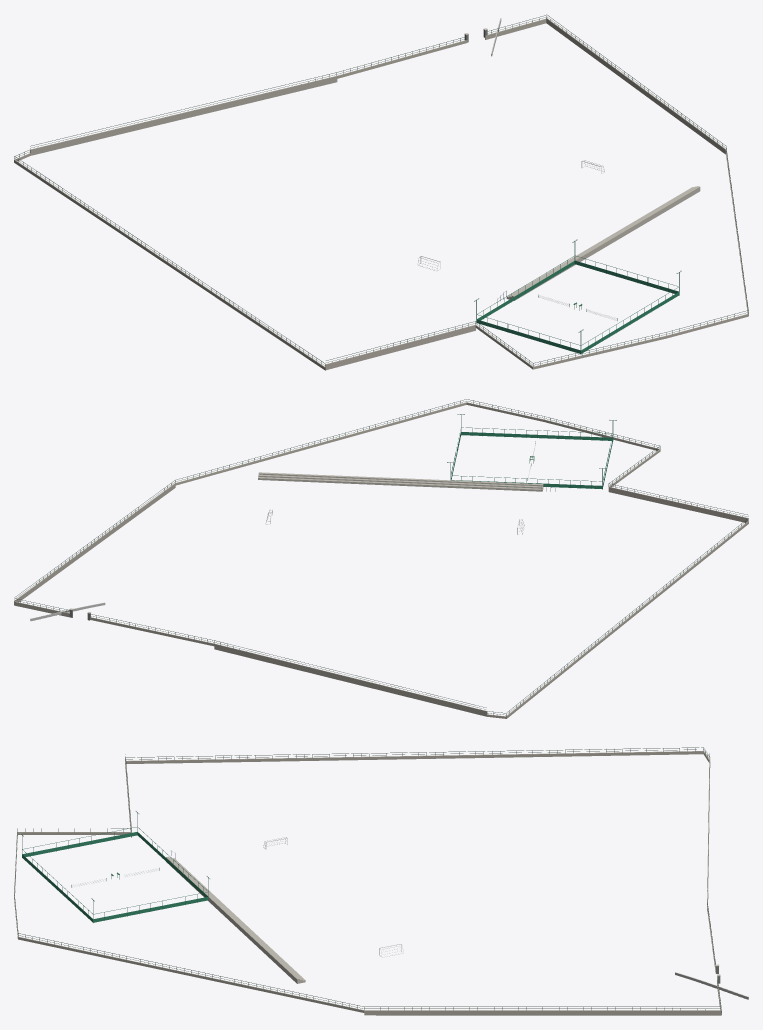
3 views of the same model, one above another, from view 1: azimuth 30°, elevation 25°; view 2: azimuth 150°, elevation 25°; view 3: azimuth 270°, elevation 25° (orthographic). The views are drawn at different scales.
Parts seen in each view (by area): view 1: site-wall-concrete, site-fence, site-tennis-screen, site-stand-concrete, site-tennis-fence; view 2: site-wall-concrete, site-fence, site-stand-concrete, site-tennis-screen, site-tennis-fence; view 3: site-wall-concrete, site-fence, site-tennis-screen, site-stand-concrete, site-tennis-fence.
Part boxes in pixels (bbox=[...]): site-wall-concrete: bbox=[14, 18, 748, 370]; site-fence: bbox=[14, 14, 748, 366]; site-tennis-screen: bbox=[477, 260, 679, 353]; site-stand-concrete: bbox=[506, 186, 700, 300]; site-tennis-fence: bbox=[475, 240, 680, 353]; site-wall-concrete: bbox=[14, 402, 748, 718]; site-fence: bbox=[14, 399, 748, 716]; site-stand-concrete: bbox=[258, 472, 543, 491]; site-tennis-screen: bbox=[451, 432, 612, 488]; site-tennis-fence: bbox=[448, 414, 615, 489]; site-wall-concrete: bbox=[14, 751, 721, 1015]; site-fence: bbox=[14, 747, 721, 1012]; site-tennis-screen: bbox=[22, 832, 208, 922]; site-stand-concrete: bbox=[166, 856, 305, 983]; site-tennis-fence: bbox=[21, 811, 209, 922].
Size of the model in its own units: 192 by 9.52 by 227.
